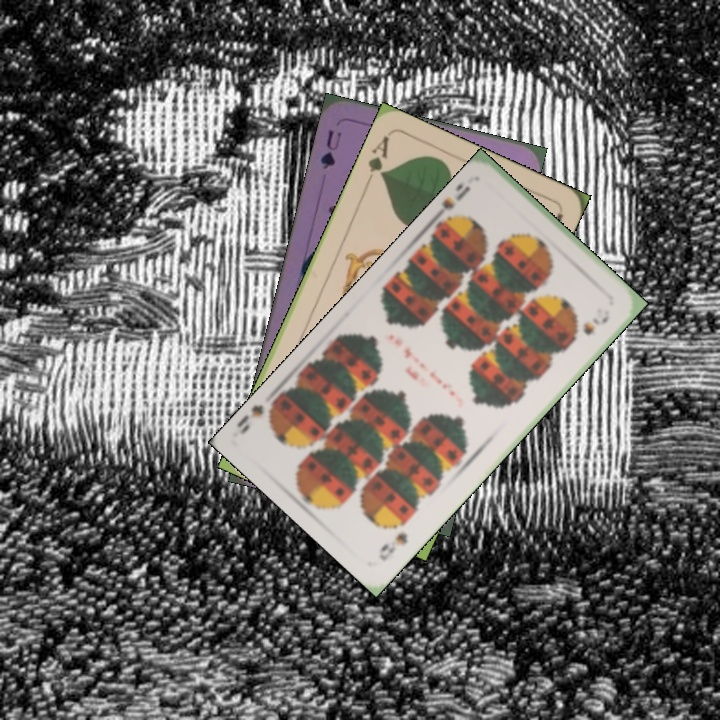GA: (361, 132, 392, 188)
GU: (316, 125, 344, 174)
S9: (435, 180, 473, 230), (374, 528, 411, 564)
